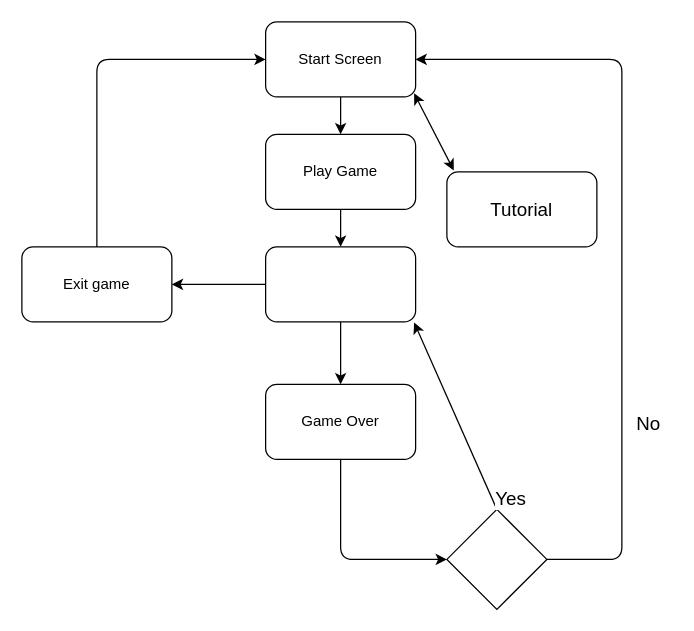
This 694x631 diagram has some shape labels left out. Each missing label, with the centre of its shape:
In Game: (340,284)
Play again?: (496,558)
